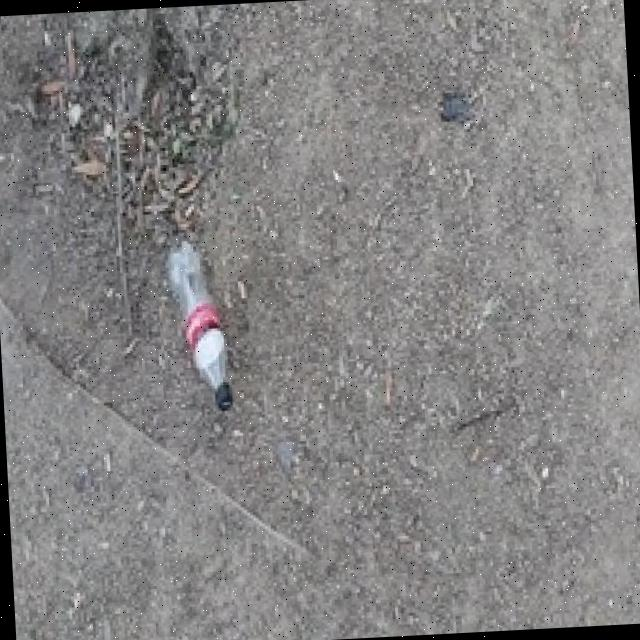bottle: (164, 236, 243, 414)
cap: (208, 381, 248, 416)
